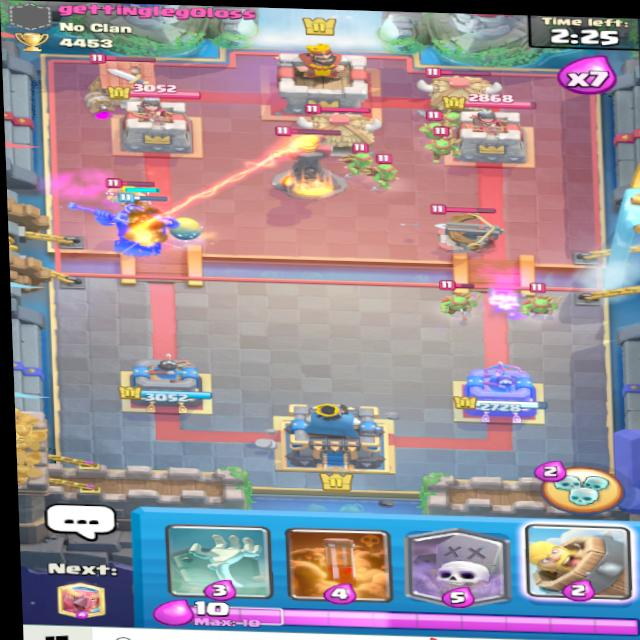barbarian: (107, 176, 156, 207)
barbarian-hut: (84, 50, 165, 116)
goblin-hut: (418, 62, 505, 121), (293, 103, 380, 151)
inferno-tower: (264, 123, 352, 198)
spear-goblin: (520, 293, 563, 318), (369, 157, 401, 183), (346, 144, 375, 172), (425, 137, 461, 159), (419, 115, 451, 139), (446, 287, 478, 310)
x-bow: (418, 195, 512, 253)
